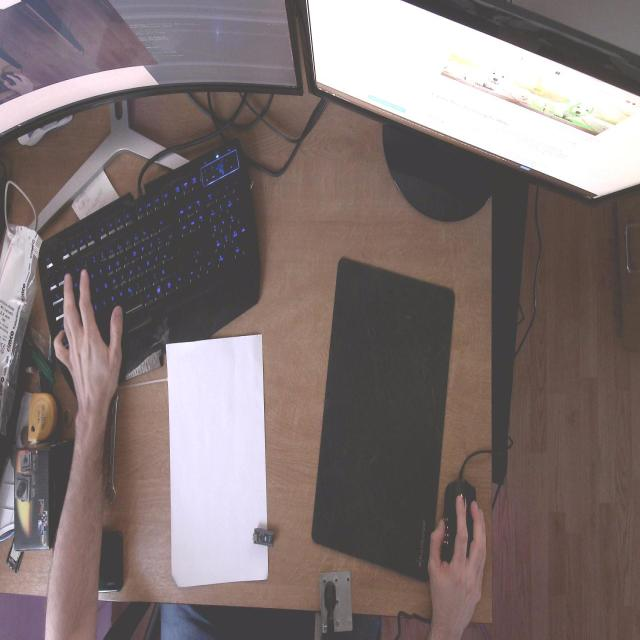keyboard-with-hands: (36, 140, 267, 419)
